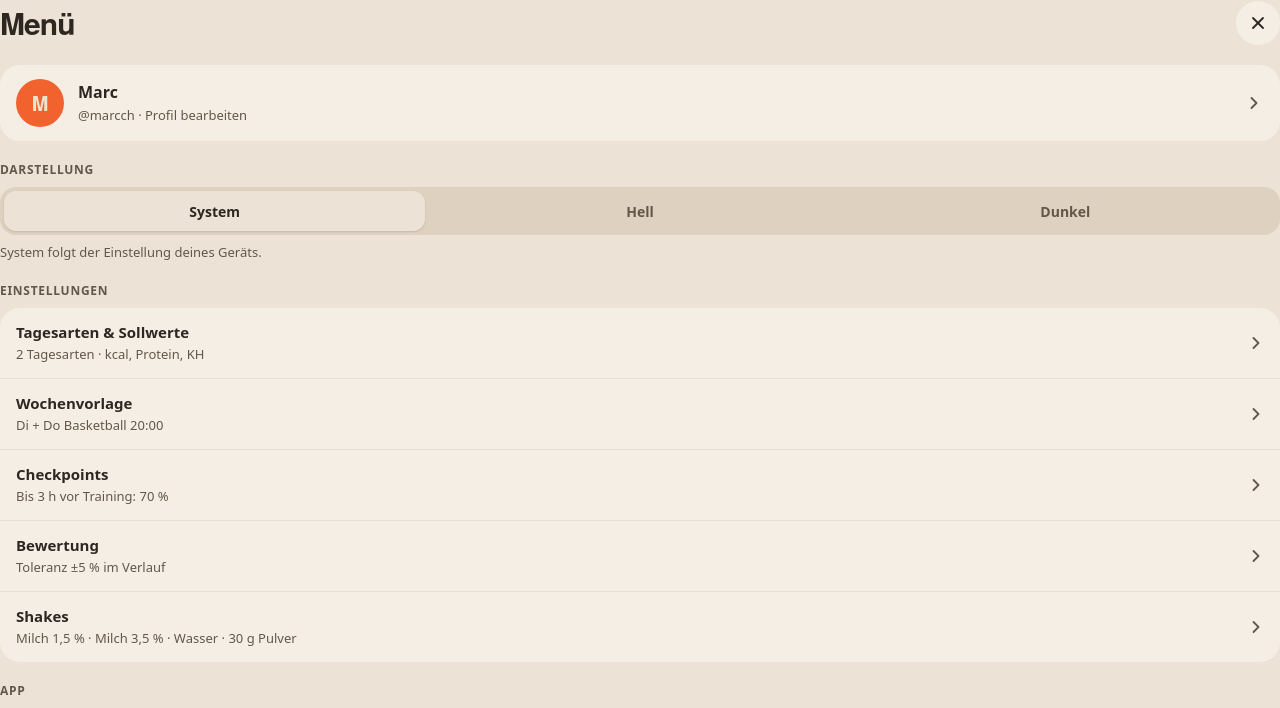
Test case: Menu and settings (7.1) › saves the protein default after the last tap
This screenshot has width=1280, height=708.
Step 1. Click the button "Tagesarten & Sollwerte 2 Tagesarten · kcal, Protein, KH" → (103, 332), box left=0, top=308, right=1279, bottom=379
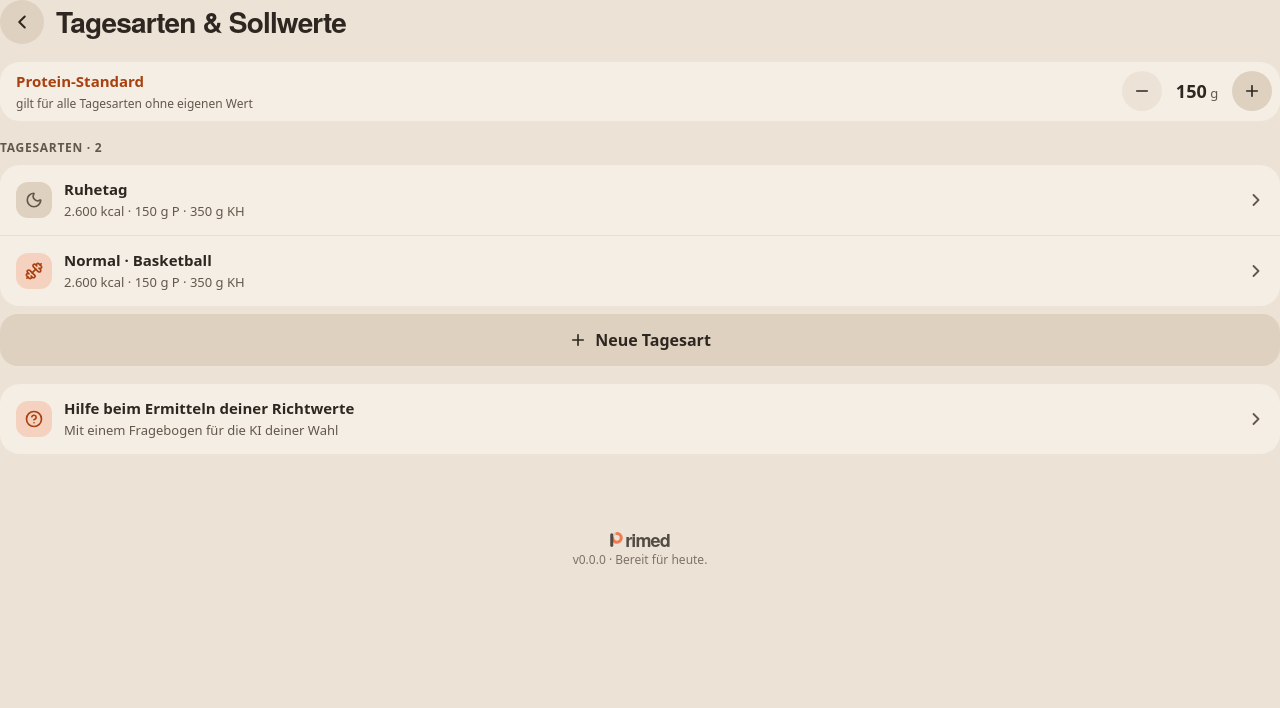
Step 2. Click the button named "Protein erhöhen" → (1252, 91), box left=1232, top=71, right=1272, bottom=111
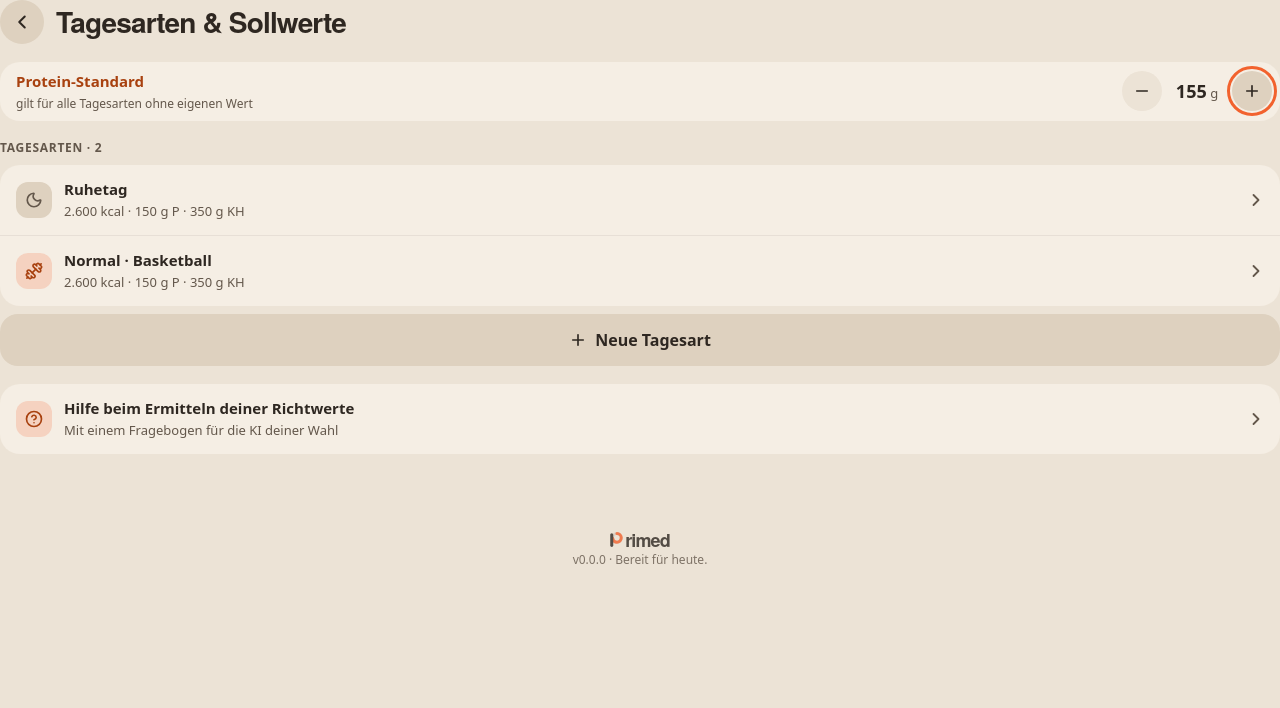
Step 3. Click the button named "Protein erhöhen" → (1252, 91), box left=1232, top=71, right=1272, bottom=111
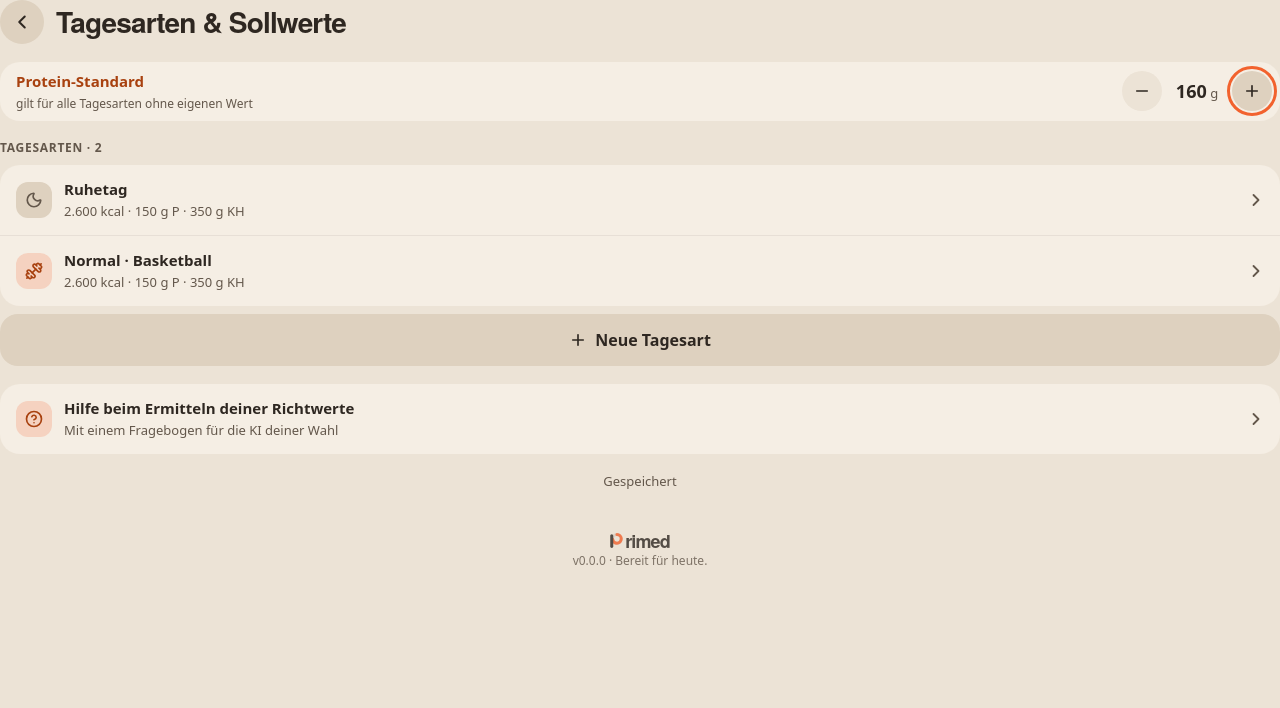
expect the element named "Protein" reads "160 g": met, box left=1122, top=71, right=1272, bottom=111
